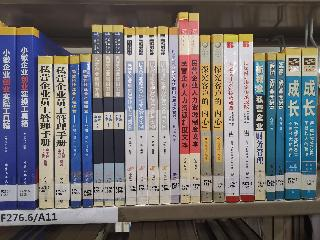book-spine: (13, 27, 37, 209), (34, 57, 56, 210), (0, 26, 17, 210), (223, 35, 241, 205), (99, 24, 115, 207), (299, 48, 318, 199), (109, 25, 124, 209), (90, 25, 105, 207), (156, 26, 171, 205), (285, 50, 303, 199), (238, 35, 254, 202), (144, 26, 159, 204), (134, 26, 147, 206), (79, 54, 94, 208), (178, 13, 190, 204), (54, 57, 69, 209), (67, 55, 82, 207), (188, 13, 200, 203), (199, 34, 212, 203), (213, 33, 226, 202), (124, 26, 136, 205), (168, 27, 179, 204), (252, 53, 265, 202), (265, 52, 276, 201), (275, 52, 284, 201)
